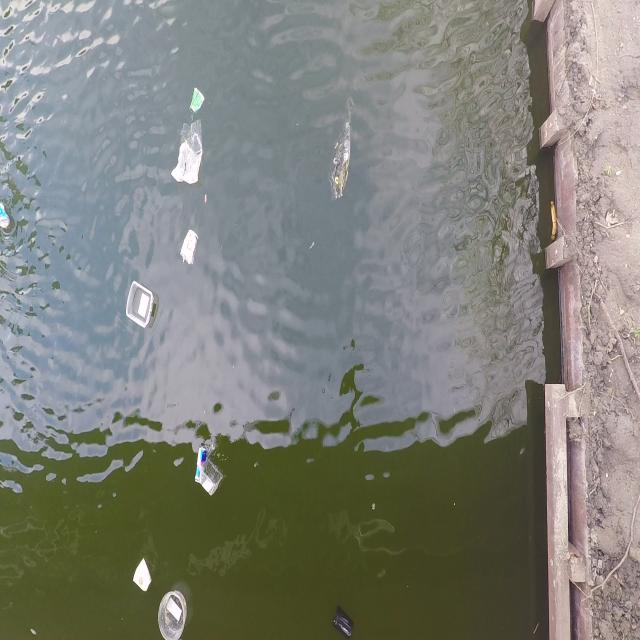Autre plastique: (120, 272, 156, 334), (155, 582, 186, 640), (200, 456, 222, 498)
Non plastique: (128, 550, 152, 601), (193, 442, 207, 485), (188, 87, 205, 117)
Sac plastique: (167, 116, 210, 190), (324, 106, 356, 200)
